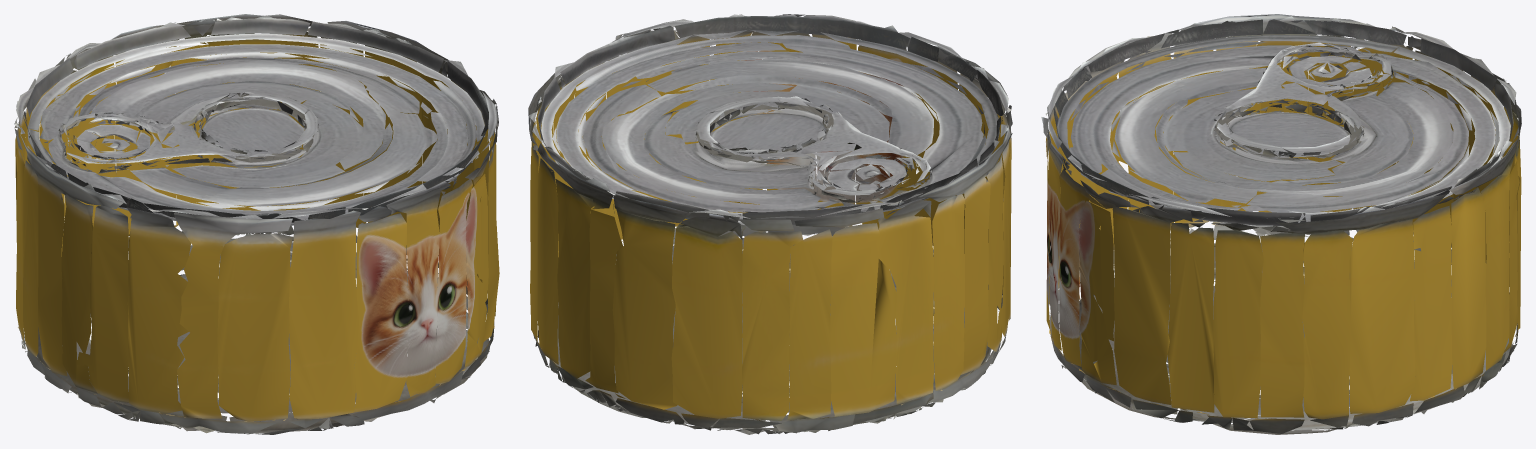
Rendered from P_CanYellow_h5.fbx.
3 views of the same model, side by side, from view 1: azimuth 30°, elevation 25°; view 2: azimuth 150°, elevation 25°; view 3: azimuth 270°, elevation 25° (orthographic).
Parts seen in each view (by area): view 1: surface_7; view 2: surface_7; view 3: surface_7.
Part boxes in pixels (left/top/right/bottom): surface_7: left=14, top=14, right=499, bottom=434; surface_7: left=528, top=14, right=1012, bottom=434; surface_7: left=1041, top=14, right=1521, bottom=434.
Size of the model in its own units: 1.95 by 1 by 1.95.
Materials: 1 (1 with a texture image).
